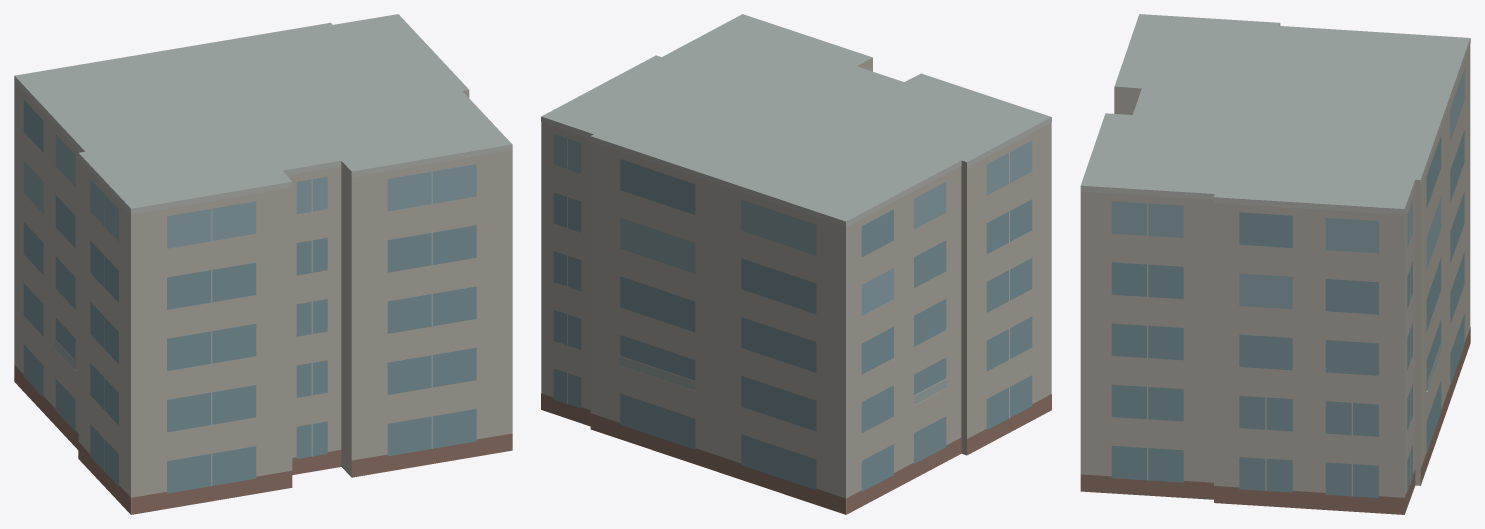
Rendered from survey-upis-32937469.glb.
3 renders of one model, left to right at view 1: azimuth 30°, elevation 25°; view 2: azimuth 150°, elevation 25°; view 3: azimuth 270°, elevation 25°, orthographic. The views are drawn at different scales.
Parts seen in each view (by area): view 1: survey-upis-32937469.tmp; view 2: survey-upis-32937469.tmp; view 3: survey-upis-32937469.tmp.
Part boxes in pixels (x1,y1,x2,y2): survey-upis-32937469.tmp: (14,14,512,514); survey-upis-32937469.tmp: (541,14,1051,514); survey-upis-32937469.tmp: (1080,14,1470,514).
Bounding box in the file's own units: 17.8 × 13 × 15.03.
